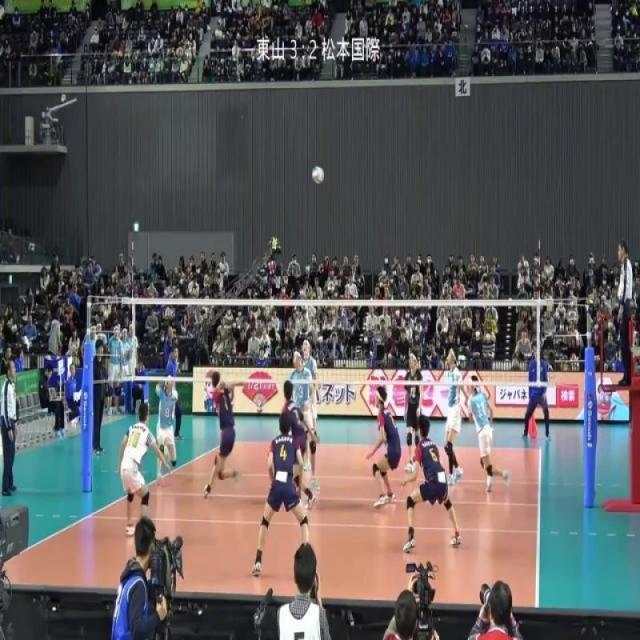volleyball: (311, 164, 325, 186)
